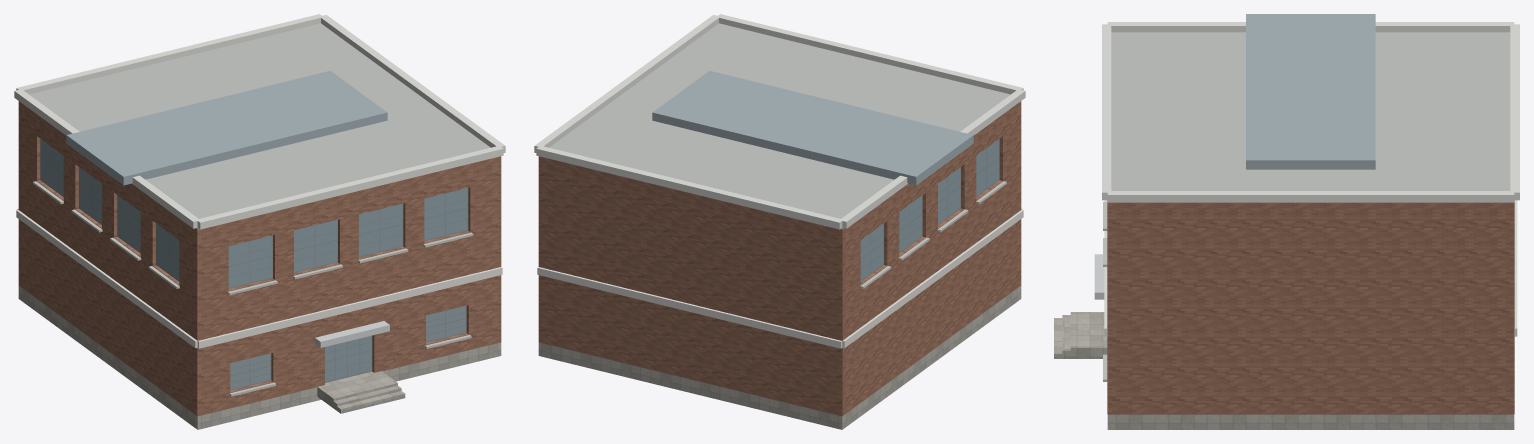
The picture shows the model from 3 angles, left to right: view 1: azimuth 30°, elevation 25°; view 2: azimuth 150°, elevation 25°; view 3: azimuth 270°, elevation 25°; orthographic projection. The views are drawn at different scales.
Parts seen in each view (by area): view 1: south-hall__brick, south-hall__roof, south-hall__skylight, south-hall__glass, south-hall__cap, south-hall__stone, south-hall__band, south-hall__frame, south-hall__sideglass, south-hall__sill, south-hall__stair-front, south-hall__threshold-front (+1 smaller); view 2: south-hall__brick, south-hall__roof, south-hall__skylight, south-hall__cap, south-hall__stone, south-hall__band, south-hall__glass, south-hall__frame, south-hall__sill; view 3: south-hall__brick, south-hall__roof, south-hall__skylight, south-hall__cap, south-hall__stone, south-hall__threshold-front, south-hall__stair-front, south-hall__band, south-hall__entrance.
Part boxes in pixels (x1,y1,x2,y2): south-hall__brick: (18, 101, 501, 416); south-hall__roof: (29, 23, 490, 229); south-hall__skylight: (66, 70, 387, 185); south-hall__glass: (41, 139, 467, 381); south-hall__cap: (14, 14, 505, 229); south-hall__stone: (18, 286, 501, 429); south-hall__band: (16, 208, 502, 348); south-hall__frame: (40, 139, 468, 390); south-hall__sideglass: (230, 306, 465, 389); south-hall__sill: (33, 181, 473, 396); south-hall__stair-front: (330, 380, 405, 413); south-hall__threshold-front: (317, 371, 393, 405); south-hall__brick: (538, 101, 1021, 416); south-hall__roof: (549, 23, 1010, 229); south-hall__skylight: (652, 70, 973, 185); south-hall__cap: (534, 14, 1025, 229); south-hall__stone: (538, 286, 1021, 429); south-hall__band: (537, 208, 1023, 348); south-hall__glass: (860, 139, 998, 279); south-hall__frame: (860, 139, 999, 281); south-hall__sill: (860, 181, 1006, 288); south-hall__brick: (1107, 200, 1514, 414); south-hall__roof: (1111, 32, 1510, 190); south-hall__skylight: (1246, 14, 1375, 169); south-hall__cap: (1102, 22, 1519, 202); south-hall__stone: (1107, 414, 1514, 429); south-hall__threshold-front: (1078, 312, 1107, 358); south-hall__stair-front: (1054, 312, 1078, 358); south-hall__band: (1104, 200, 1517, 336); south-hall__entrance: (1094, 254, 1104, 299).
Size of the model in its own units: 19.46 by 12.26 by 21.53.
Materials: 12 (2 with a texture image).
